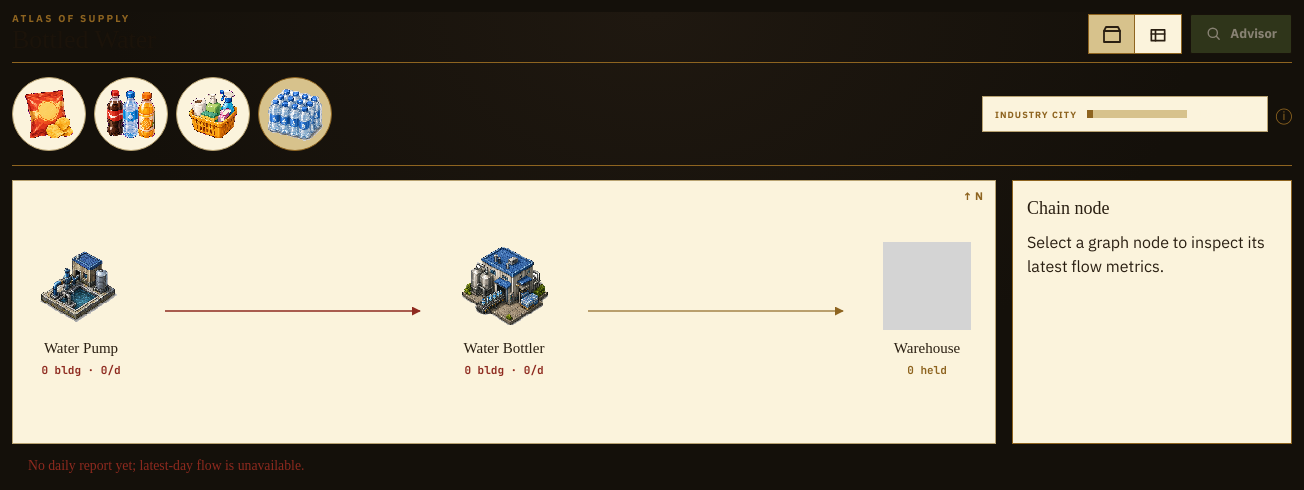
Test case: ProductChainsPanel › toggles from store category chains to city inventory flow
Click the heading "ⓘ".
click(1284, 114)  # box 1276,102 -> 1292,126
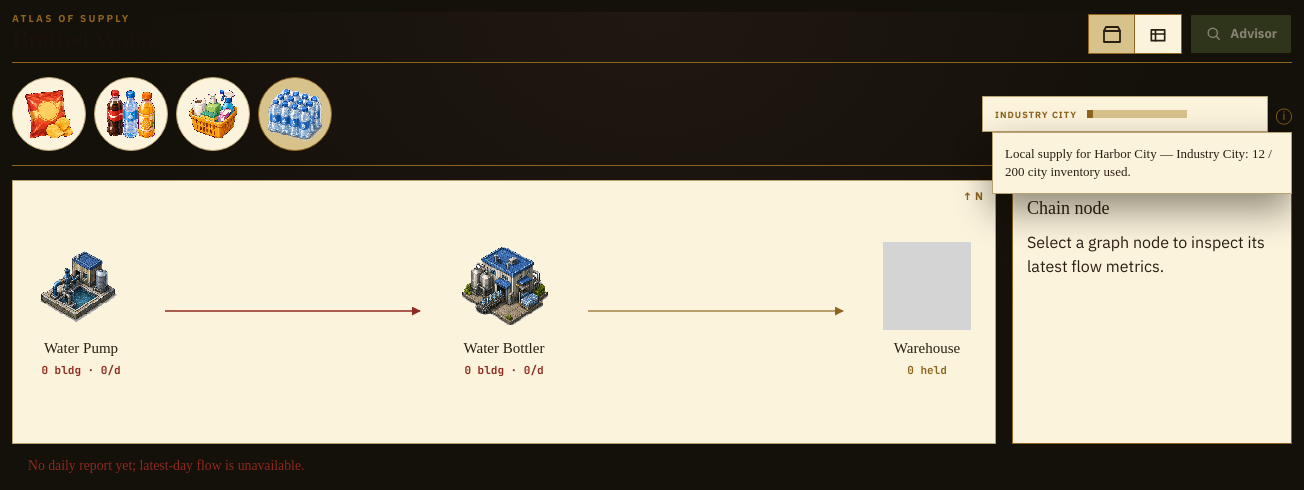
Click the 2nd button named "City inventory flow".
click(1159, 34)  # box 1135,14 -> 1182,54
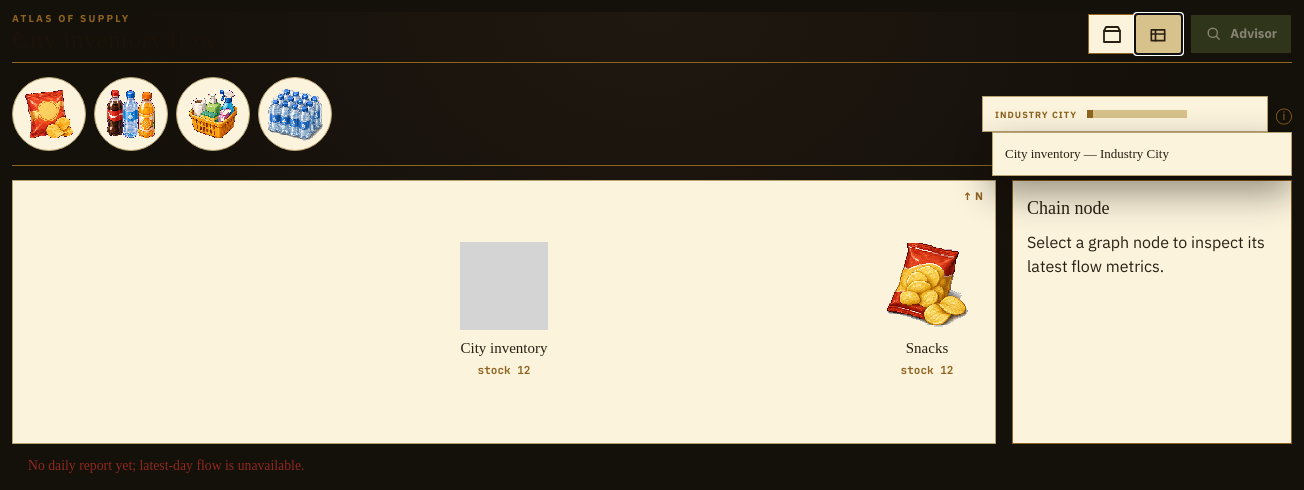
Expected: the 1st button named "Store category chains" is shown, 1088,14 -> 1135,54
Now the element with test id "product-chain-graph-warehouse-flow" is shown, box 13,181 -> 995,443
